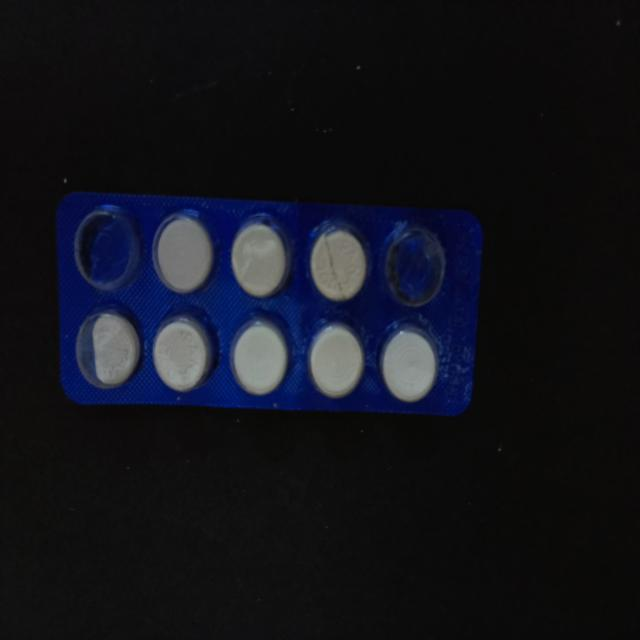defect: (71, 202, 145, 294), (73, 304, 143, 394), (381, 219, 449, 311), (306, 220, 369, 305)
